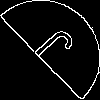J: (24, 24, 77, 75)
